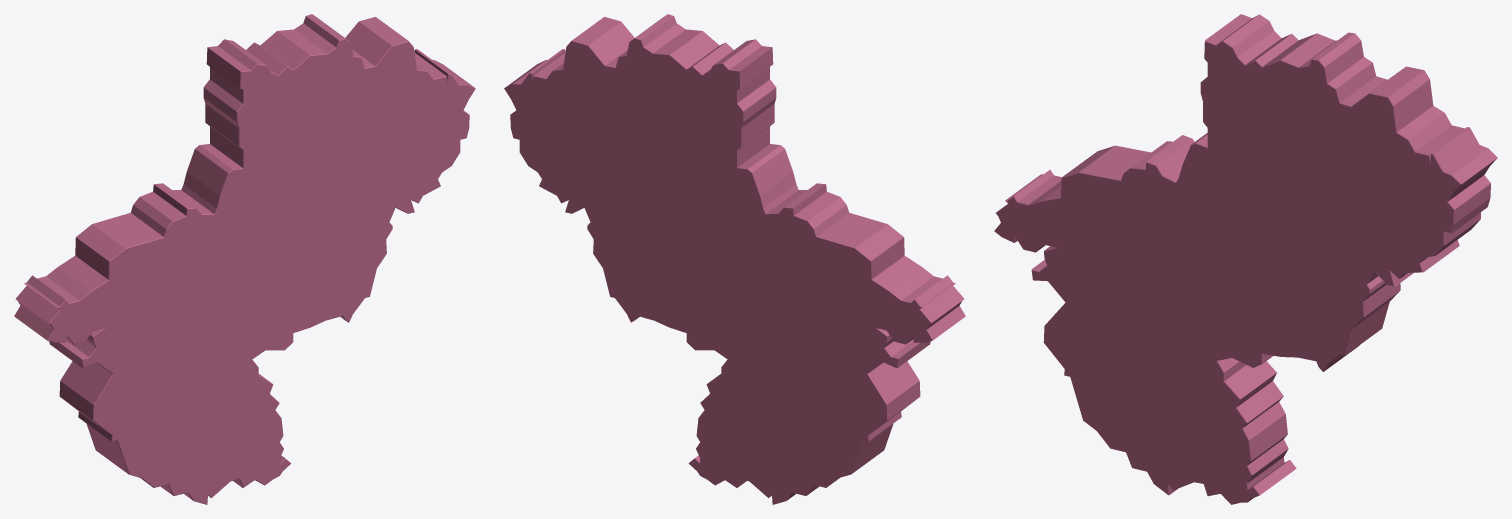
File: PaysDeLaLoire.glb
3 views of the same model, side by side, from view 1: azimuth 30°, elevation 25°; view 2: azimuth 150°, elevation 25°; view 3: azimuth 330°, elevation 25° (orthographic). The views are drawn at different scales.
Parts seen in each view (by area): view 1: Pays-de-la-Loire; view 2: Pays-de-la-Loire; view 3: Pays-de-la-Loire.
Boxes of the visible parts, left/top/right/bottom form: Pays-de-la-Loire: left=14, top=14, right=475, bottom=504; Pays-de-la-Loire: left=504, top=14, right=965, bottom=504; Pays-de-la-Loire: left=994, top=14, right=1497, bottom=504.
Bounding box in the file's own units: 0.9483 × 0.9155 × 0.1283.
